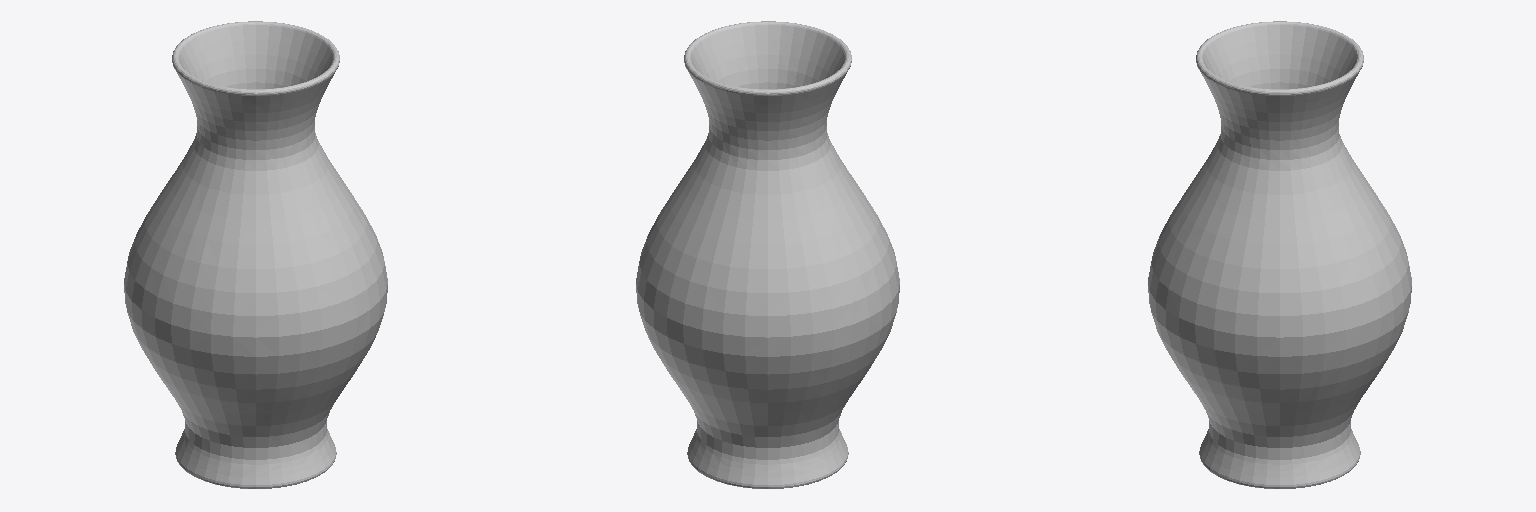
The model's file is Vase.obj.
3 renders of one model, left to right at view 1: azimuth 30°, elevation 25°; view 2: azimuth 150°, elevation 25°; view 3: azimuth 270°, elevation 25°, orthographic.
Parts seen in each view (by area): view 1: Vase_001_; view 2: Vase_001_; view 3: Vase_001_.
Part boxes in pixels (left/top/right/bottom): Vase_001_: left=124, top=21, right=387, bottom=488; Vase_001_: left=636, top=21, right=899, bottom=488; Vase_001_: left=1148, top=21, right=1411, bottom=488.
Size of the model in its own units: 0.147 by 0.2455 by 0.147.